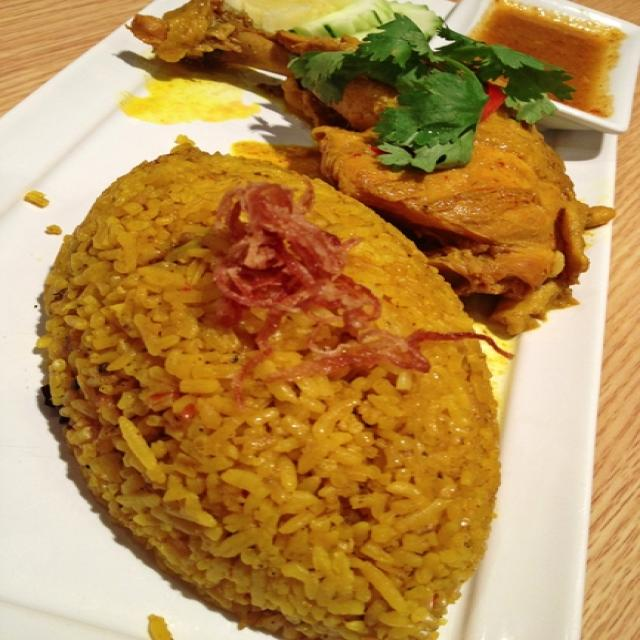米饭主食: (7, 8, 615, 634)
